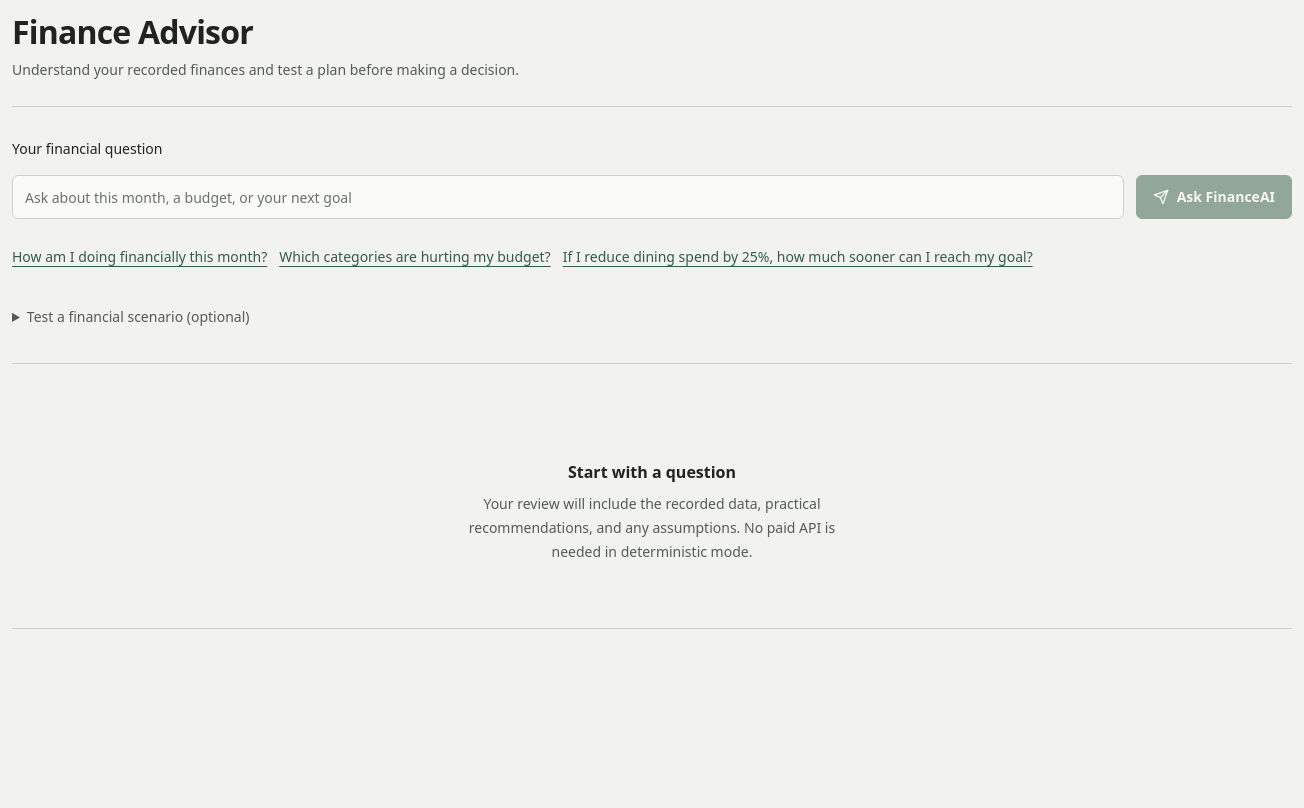
Scenario: Finance Advisor workspace › distinguishes knowledge indexing dates from current financial facts
In the field labelled "Your financial question": (568, 197) [12,175,1124,219], type "What is PPF?"
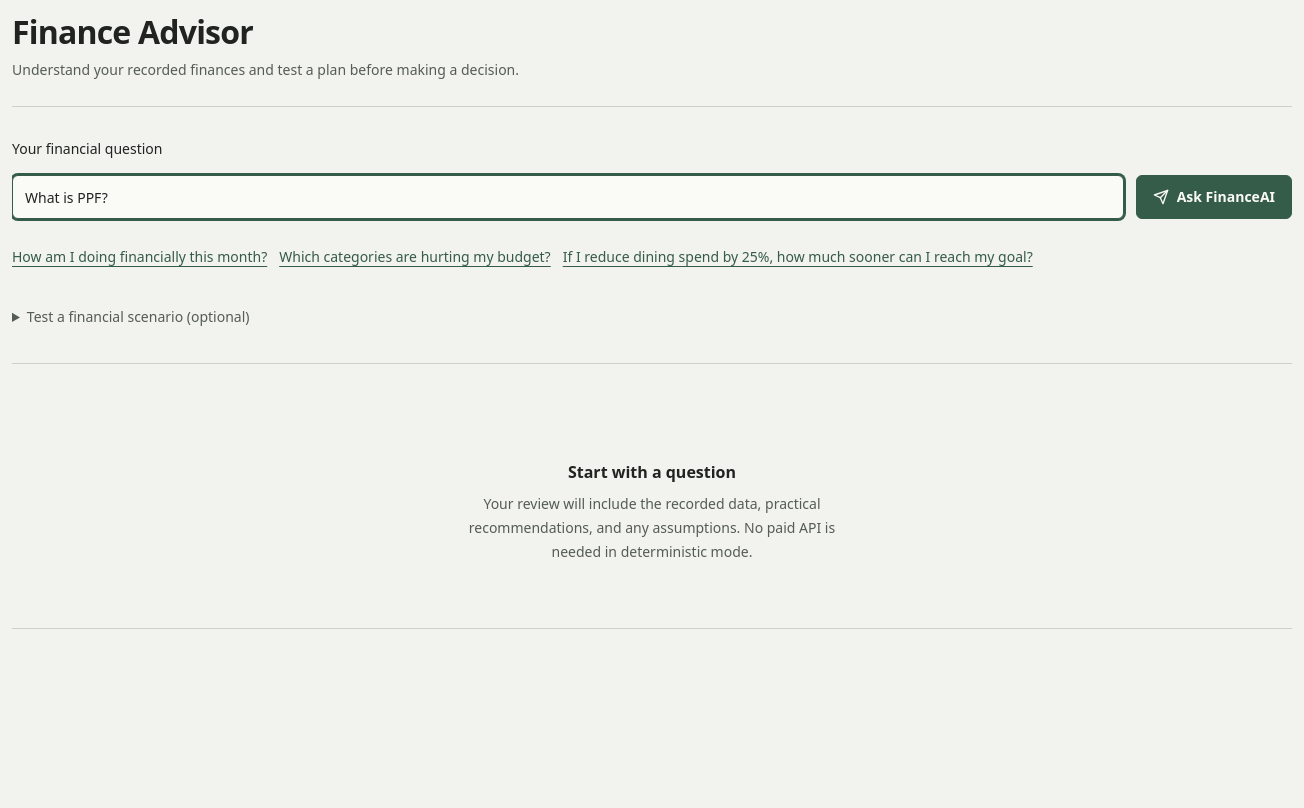
Click the button "Ask FinanceAI": (1214, 197) [1136,175,1292,219]
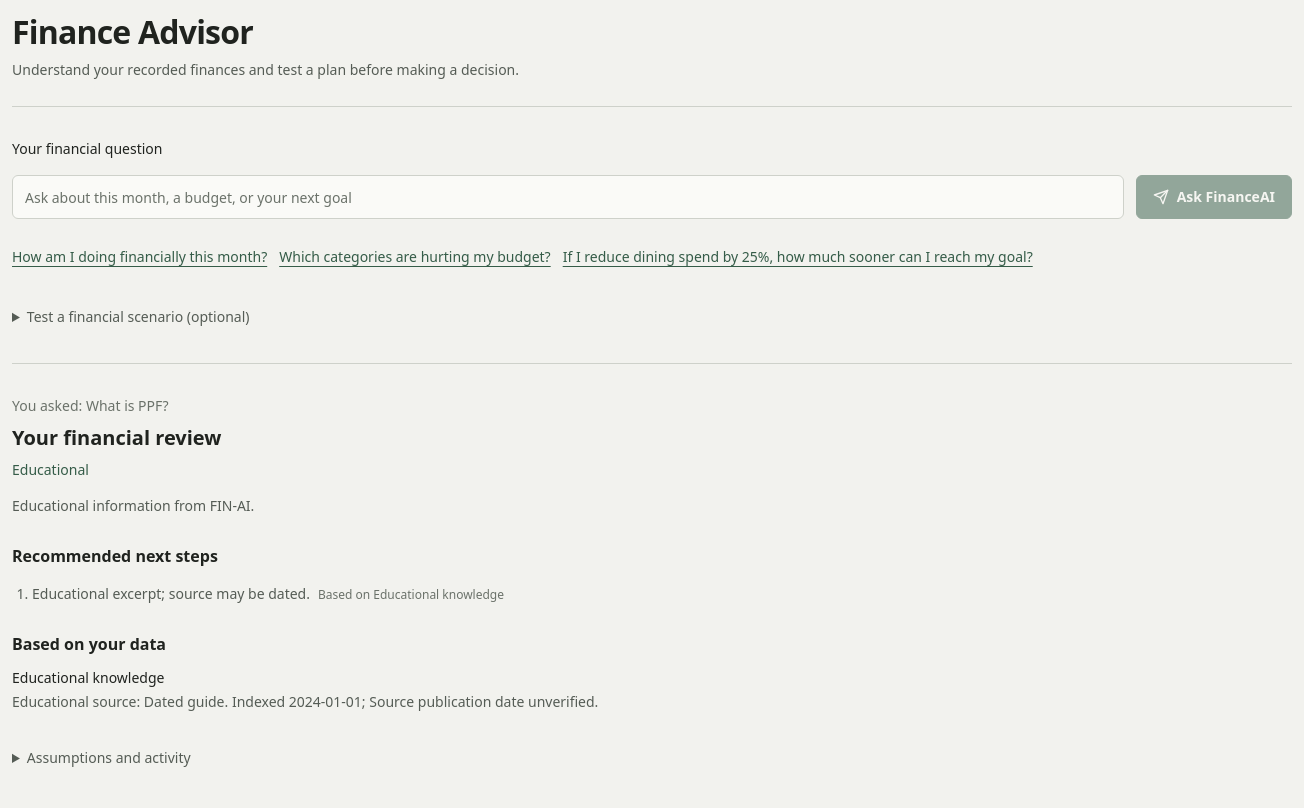
Expected: the text "Educational source: Dated guide. Indexed 2024-01-01; Source publication date unverified." is shown, [12,692,598,711]
